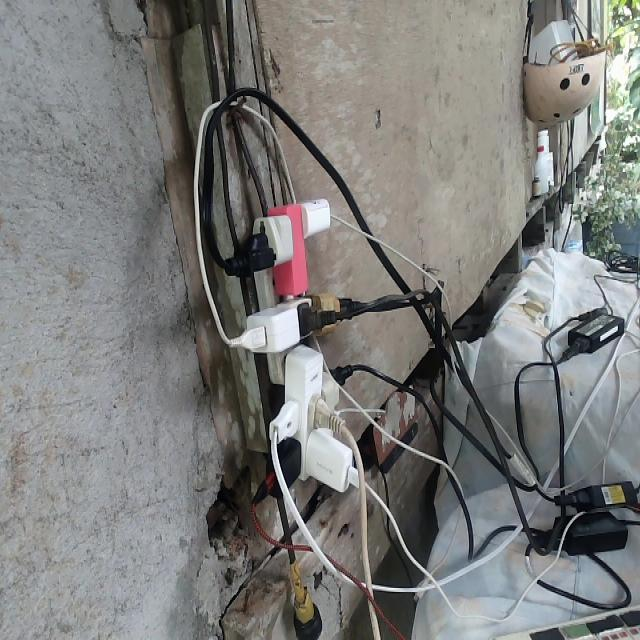-: (207, 193, 368, 519)
